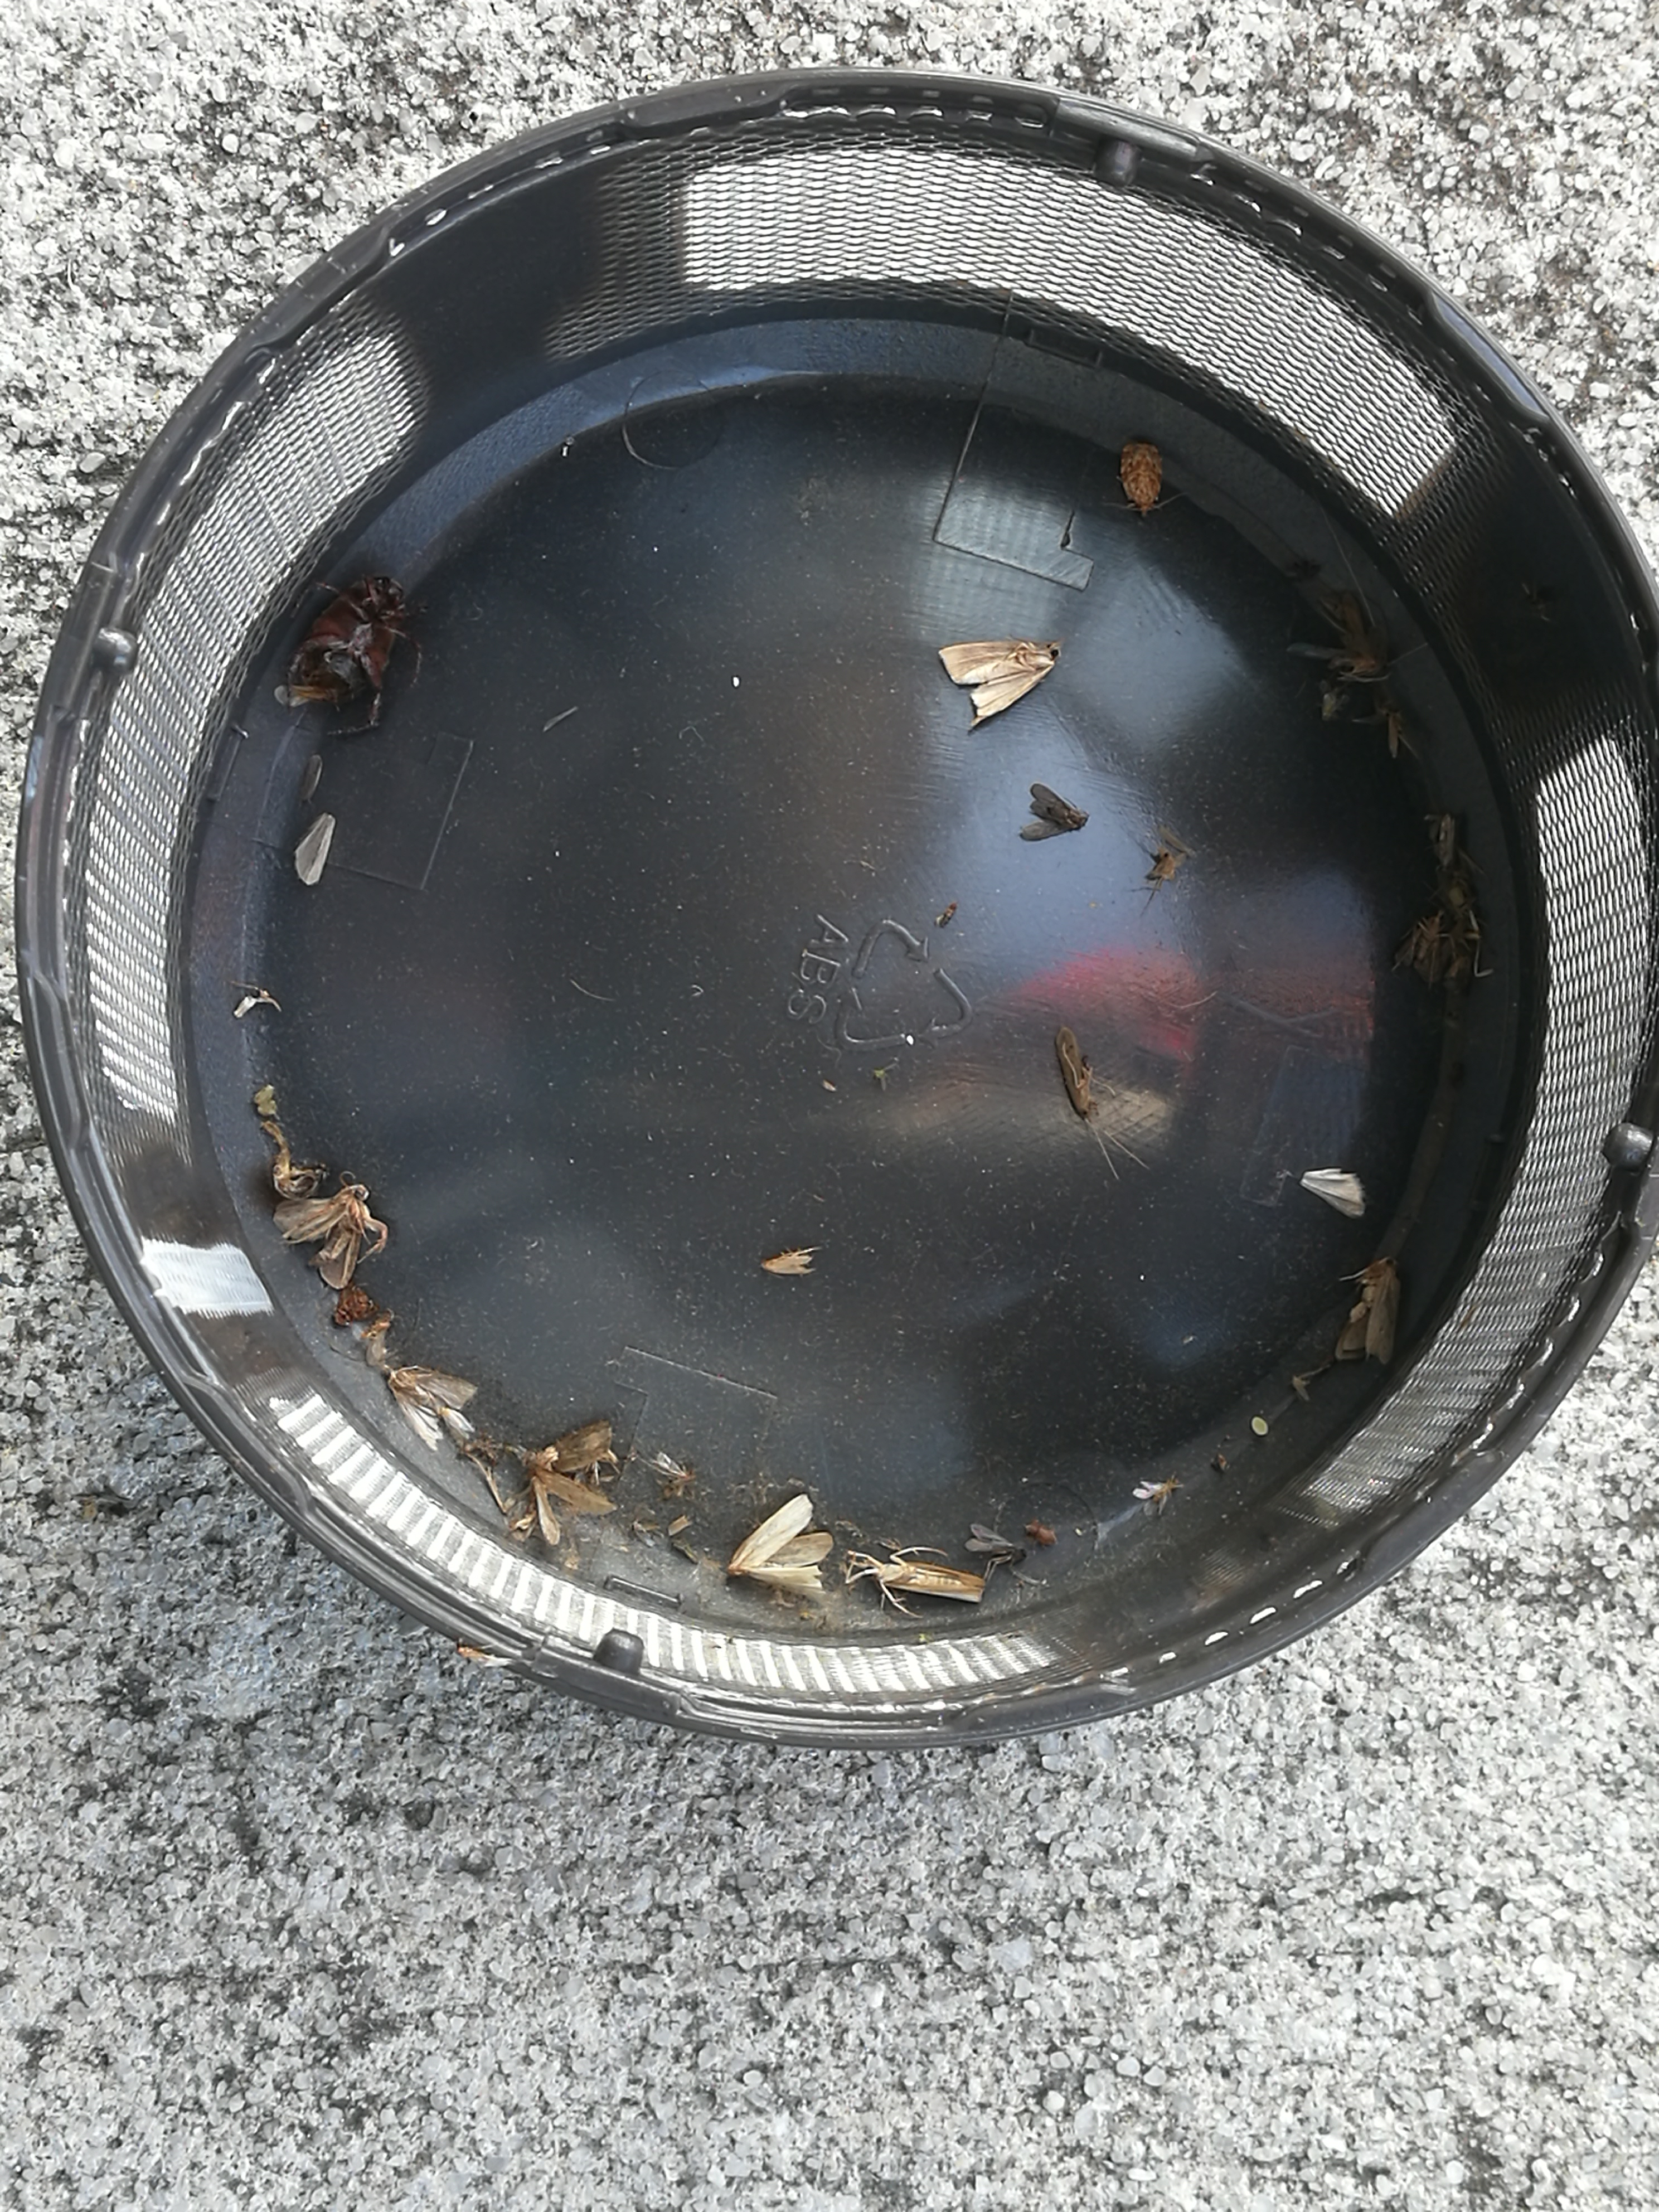beetle: (303, 578, 401, 702)
mosquito: (875, 1561, 986, 1601), (1056, 1028, 1089, 1118), (1438, 813, 1457, 871), (763, 1256, 812, 1275)
moth: (938, 641, 1060, 733), (725, 1496, 833, 1599), (528, 1421, 617, 1545), (274, 1184, 369, 1289), (389, 1367, 476, 1449), (1337, 1258, 1401, 1364), (1394, 909, 1445, 982), (1122, 444, 1161, 514)
